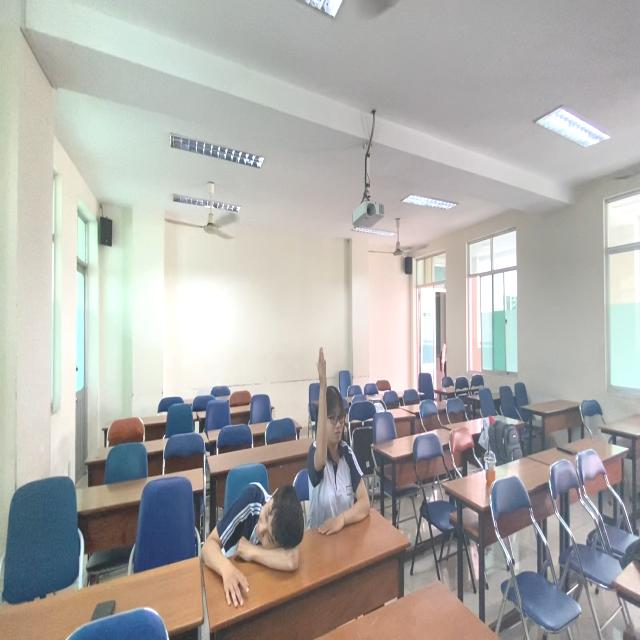raise_hand: (307, 345, 373, 537)
sleep: (198, 479, 309, 609)
